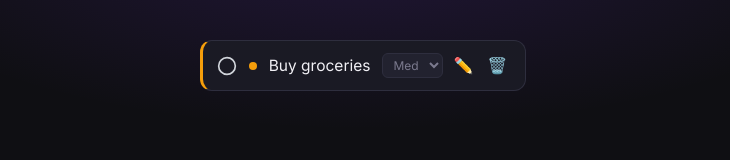
Test: TodoItem editing › enters edit mode on double click of text
Double-click the button with test id "todo-text": coordinates (320, 65) [269,55,370,76]
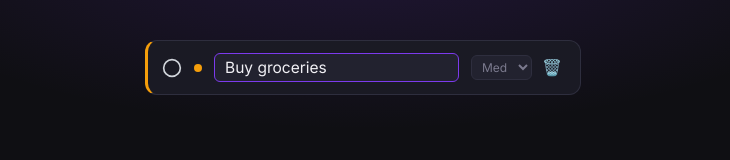
Result: the field with test id "edit-input" is shown at [214,53,459,82]
